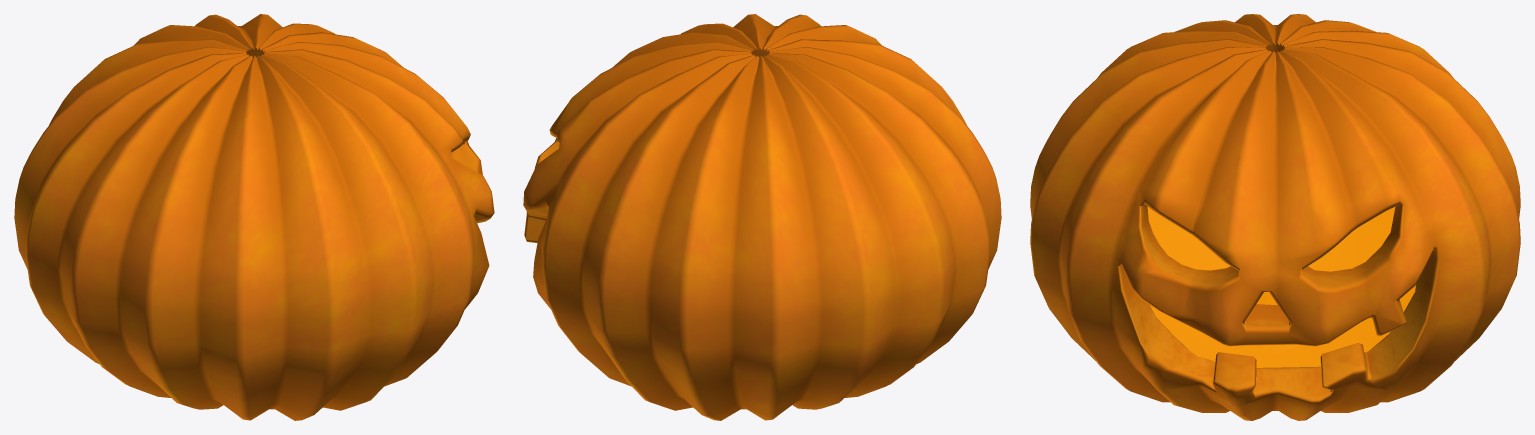
File: pumpkin simple.glb
The picture shows the model from 3 angles, left to right: view 1: azimuth 30°, elevation 25°; view 2: azimuth 150°, elevation 25°; view 3: azimuth 270°, elevation 25°; orthographic projection. The views are drawn at different scales.
Visible parts, largest first — view 1: Object_2; view 2: Object_2; view 3: Object_2.
Part boxes in pixels (box(x1,y1,x2,y2)): Object_2: box(14, 14, 494, 420); Object_2: box(523, 14, 1001, 420); Object_2: box(1030, 14, 1520, 420).
Bounding box in the file's own units: 1.78 × 1.37 × 1.78.
2 materials, 1 textured.
